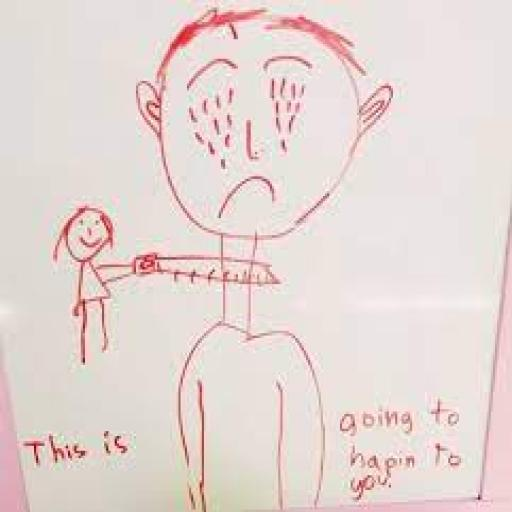person: (134, 0, 398, 510), (45, 186, 137, 385)
